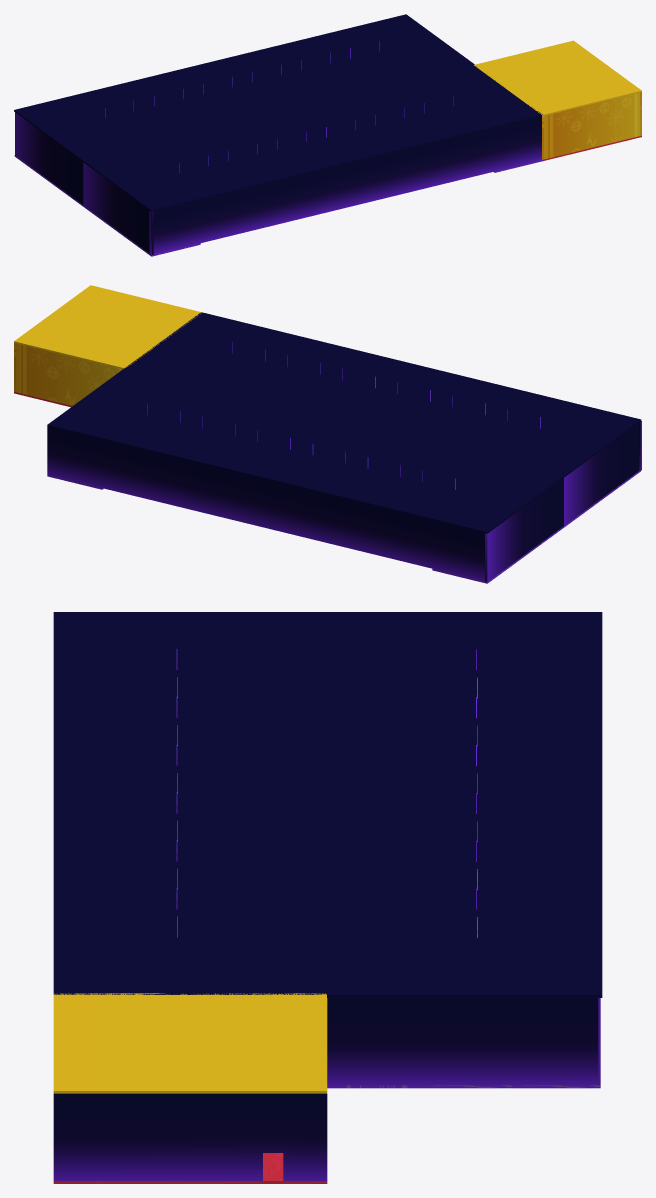
The model's file is Stage5.gltf.
3 renders of one model, top to bottom at view 1: azimuth 30°, elevation 25°; view 2: azimuth 150°, elevation 25°; view 3: azimuth 270°, elevation 25°, orthographic. The views are drawn at different scales.
Parts seen in each view (by area): view 1: StudioCeiling.005-col, StudioCeiling.004-col, Cube.343-col, WelcomeCeiling.004-convcol, Cube.375-convcol, Cube.426-col, Cube.436-col; view 2: StudioCeiling.005-col, StudioCeiling.004-col, Cube.454-col, WelcomeCeiling.004-convcol, Cube.379-convcol, Cube.436-col, Cube.426-col; view 3: StudioCeiling.005-col, StudioCeiling.004-col, WelcomeCeiling.004-convcol, Cube.455-col, Cube.333-col, Cube.356.
Boxes of the visible parts, left/top/right/bottom form: StudioCeiling.005-col: left=14, top=14, right=474, bottom=160; StudioCeiling.004-col: left=82, top=64, right=542, bottom=211; Cube.343-col: left=149, top=116, right=541, bottom=255; WelcomeCeiling.004-convcol: left=474, top=40, right=641, bottom=116; Cube.375-convcol: left=544, top=92, right=639, bottom=159; Cube.426-col: left=83, top=162, right=153, bottom=254; Cube.436-col: left=15, top=112, right=83, bottom=204; StudioCeiling.005-col: left=47, top=368, right=564, bottom=533; StudioCeiling.004-col: left=124, top=312, right=641, bottom=477; Cube.454-col: left=47, top=426, right=484, bottom=581; WelcomeCeiling.004-convcol: left=14, top=285, right=201, bottom=369; Cube.379-convcol: left=16, top=343, right=122, bottom=405; Cube.436-col: left=485, top=478, right=563, bottom=581; Cube.426-col: left=564, top=423, right=639, bottom=525; StudioCeiling.005-col: left=325, top=612, right=602, bottom=997; StudioCeiling.004-col: left=53, top=612, right=330, bottom=994; WelcomeCeiling.004-convcol: left=53, top=993, right=326, bottom=1093; Cube.455-col: left=327, top=997, right=598, bottom=1085; Cube.333-col: left=53, top=1092, right=327, bottom=1180; Cube.356: left=238, top=1153, right=327, bottom=1183.
Size of the model in its own units: 140 by 15.44 by 67.5.
